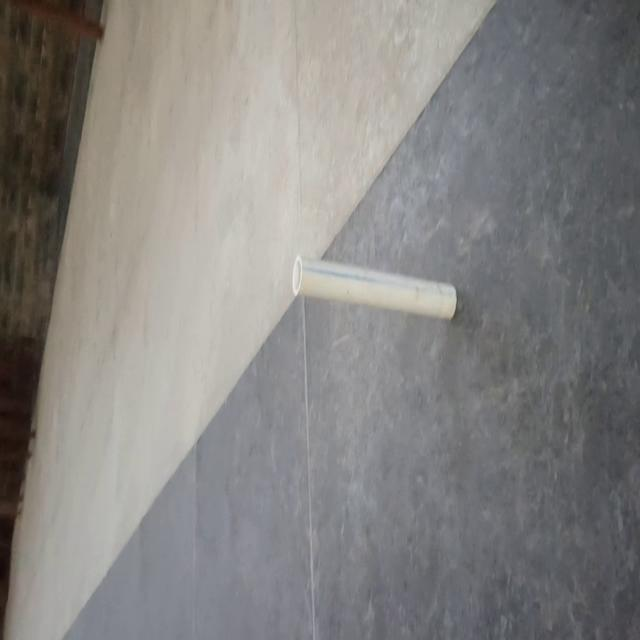Cube: (292, 252, 458, 322)
